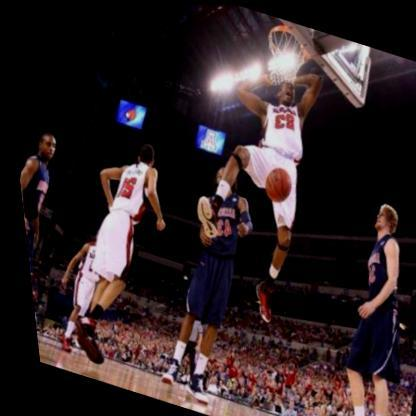basketball: (254, 162, 293, 205)
